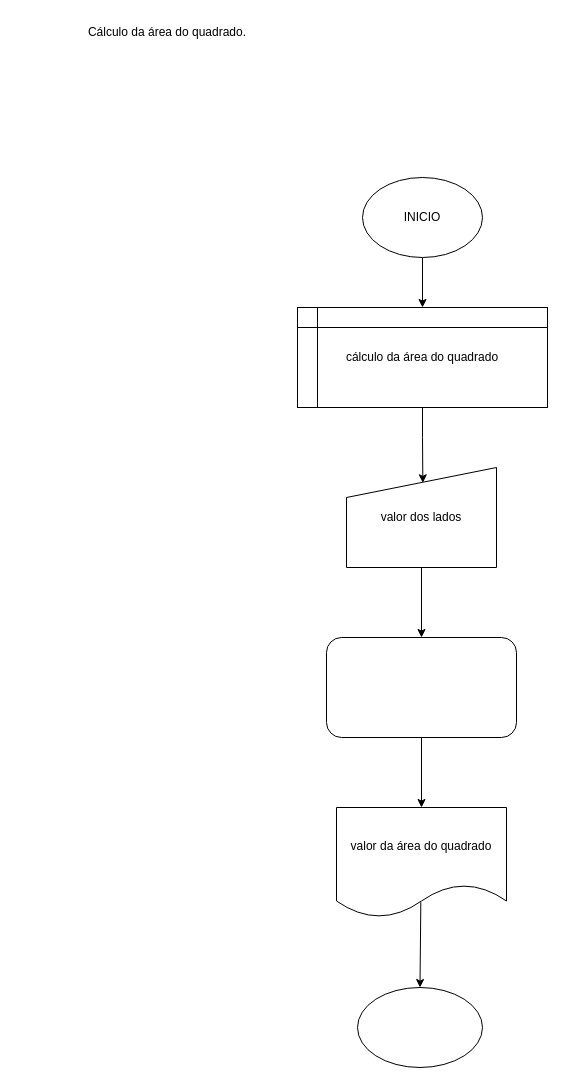
Some shapes in this 565 by 1085 pixel diagram are drawn without their labels. The box of each missing label's shape, as (x1, y1, x2, y2) in pixels:
A = L * L: (326, 636, 516, 738)
final: (356, 986, 482, 1068)
